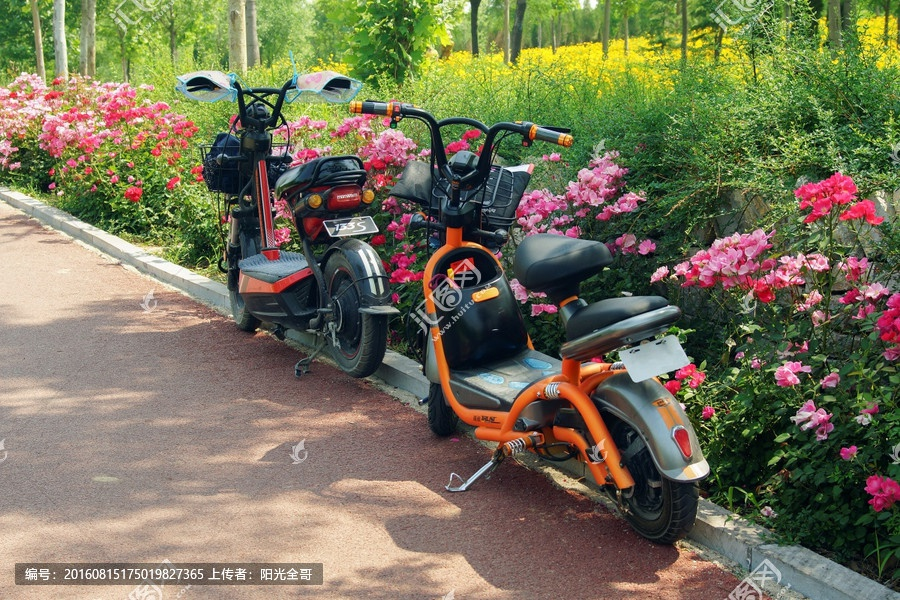non-vehicle: (360, 90, 706, 546), (174, 59, 394, 387)
